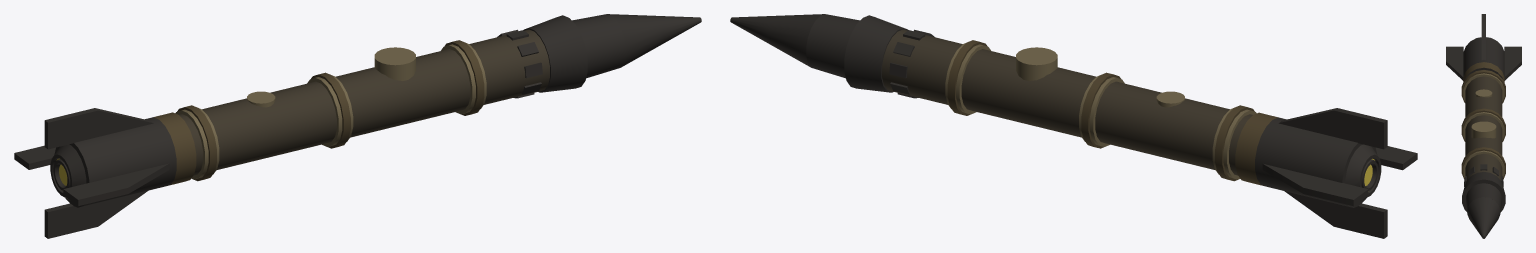
File: missile_balistico.glb
The picture shows the model from 3 angles, left to right: view 1: azimuth 30°, elevation 25°; view 2: azimuth 150°, elevation 25°; view 3: azimuth 270°, elevation 25°; orthographic projection. The views are drawn at different scales.
Visible parts, largest first — view 1: Cylinder_1, Cylinder, Cylinder_9, Cube_1_5, Cone_1, Cone, Cube_1_4, Cube_1_3, Cylinder_6, Cylinder_7, Cylinder_10_2, Cylinder_10_4 (+6 smaller); view 2: Cylinder_1, Cylinder, Cylinder_9, Cube_1_5, Cone_1, Cone, Cube_1_4, Cube_1_2, Cylinder_6, Cylinder_7, Cylinder_10_3, Cylinder_10_4 (+6 smaller); view 3: Cylinder_1, Cylinder, Cone_1, Cylinder_9, Cone, Cube_1_3, Cube_1_2, Cylinder_7, Cylinder_10_4, Cylinder_10_3, Cylinder_10_2, Cylinder_3_5 (+5 smaller).
Part boxes in pixels (left/top/right/bottom): Cylinder_1: left=179, top=29, right=549, bottom=175; Cylinder: left=54, top=112, right=196, bottom=207; Cylinder_9: left=523, top=15, right=587, bottom=92; Cube_1_5: left=44, top=108, right=153, bottom=149; Cone_1: left=608, top=14, right=701, bottom=67; Cone: left=572, top=14, right=625, bottom=78; Cube_1_4: left=44, top=191, right=147, bottom=238; Cube_1_3: left=63, top=163, right=169, bottom=206; Cylinder_6: left=50, top=144, right=86, bottom=199; Cylinder_7: left=374, top=47, right=415, bottom=80; Cylinder_10_2: left=444, top=40, right=484, bottom=115; Cylinder_10_4: left=311, top=72, right=350, bottom=148; Cylinder_1: left=882, top=29, right=1252, bottom=175; Cylinder: left=1235, top=112, right=1377, bottom=207; Cylinder_9: left=844, top=15, right=908, bottom=92; Cube_1_5: left=1278, top=108, right=1387, bottom=149; Cone_1: left=730, top=14, right=824, bottom=67; Cone: left=806, top=14, right=859, bottom=78; Cube_1_4: left=1284, top=191, right=1387, bottom=238; Cube_1_2: left=1262, top=164, right=1368, bottom=206; Cylinder_6: left=1345, top=144, right=1381, bottom=200; Cylinder_7: left=1016, top=47, right=1057, bottom=80; Cylinder_10_3: left=1215, top=105, right=1254, bottom=181; Cylinder_10_4: left=1081, top=72, right=1120, bottom=148; Cylinder_1: left=1465, top=70, right=1502, bottom=180; Cylinder: left=1463, top=37, right=1504, bottom=82; Cone_1: left=1467, top=197, right=1500, bottom=238; Cylinder_9: left=1462, top=172, right=1505, bottom=211; Cone: left=1466, top=183, right=1501, bottom=212; Cube_1_3: left=1446, top=46, right=1463, bottom=80; Cube_1_2: left=1504, top=46, right=1521, bottom=80; Cylinder_7: left=1471, top=121, right=1496, bottom=138; Cylinder_10_4: left=1461, top=108, right=1505, bottom=141; Cylinder_10_3: left=1461, top=70, right=1505, bottom=103; Cylinder_10_2: left=1461, top=147, right=1505, bottom=179; Cylinder_3_5: left=1463, top=112, right=1504, bottom=140.
Bounding box in the file's own units: 596 × 101 × 101.
